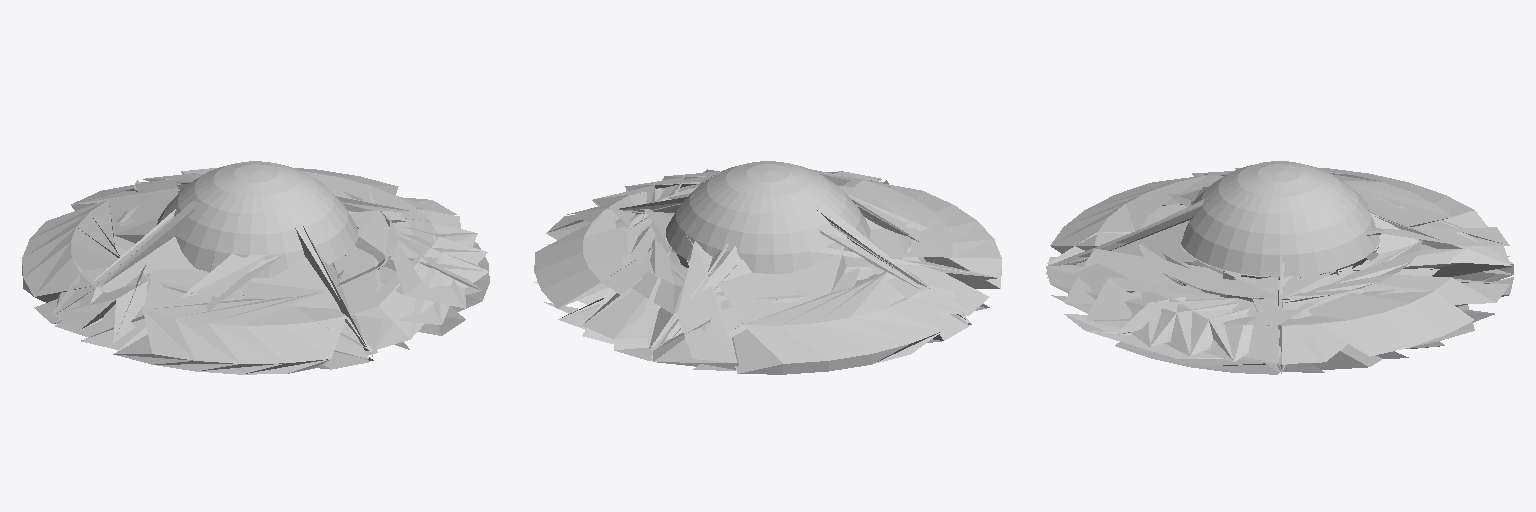
The model's file is ufo.obj.
3 views of the same model, side by side, from view 1: azimuth 30°, elevation 25°; view 2: azimuth 150°, elevation 25°; view 3: azimuth 270°, elevation 25° (orthographic).
Parts seen in each view (by area): view 1: UFO_body, UFO_cockpit; view 2: UFO_body, UFO_cockpit; view 3: UFO_body, UFO_cockpit.
Part boxes in pixels (x1,y1,x2,y2): UFO_body: (22, 167, 489, 374); UFO_cockpit: (157, 161, 357, 276); UFO_body: (534, 169, 1001, 374); UFO_cockpit: (666, 161, 870, 273); UFO_body: (1046, 168, 1513, 374); UFO_cockpit: (1181, 161, 1379, 276).
Size of the model in its own units: 67.87 by 27.04 by 67.87.